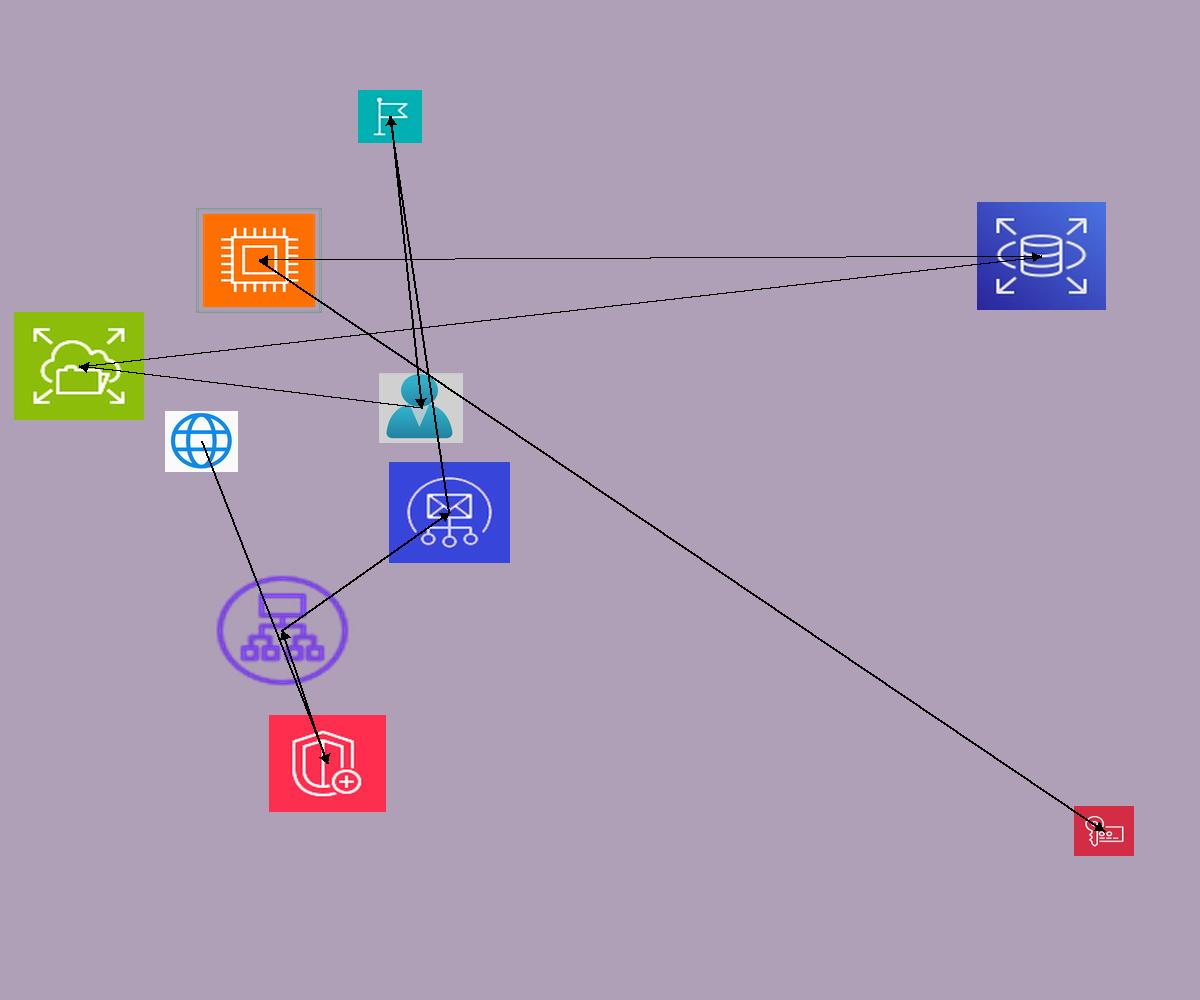AWS-Category_Compute: (196, 208, 322, 313)
AWS-EFS: (14, 312, 144, 420)
AWS-Key-Management-Service: (1074, 806, 1134, 856)
AWS-RDS: (977, 202, 1106, 310)
AWS-Region: (358, 90, 422, 143)
AWS-Res_Elastic-Load-Balancing_Application-Load-Balancer: (211, 571, 354, 690)
AWS-Shield: (269, 715, 386, 812)
AWS-Simple-Email-Service: (389, 462, 510, 563)
Azure_http: (165, 411, 238, 472)
Azure_users: (379, 373, 463, 443)
